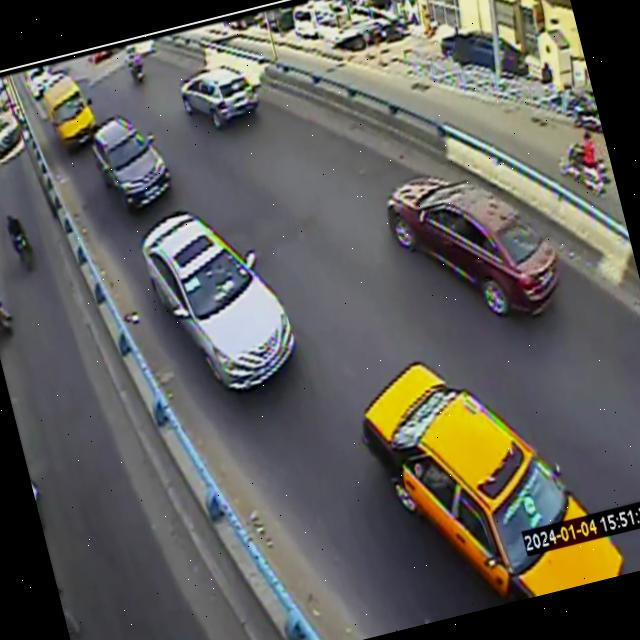car: (361, 363, 623, 602), (141, 210, 293, 390), (386, 175, 558, 315), (92, 116, 171, 210), (180, 65, 258, 128), (42, 76, 96, 148)
